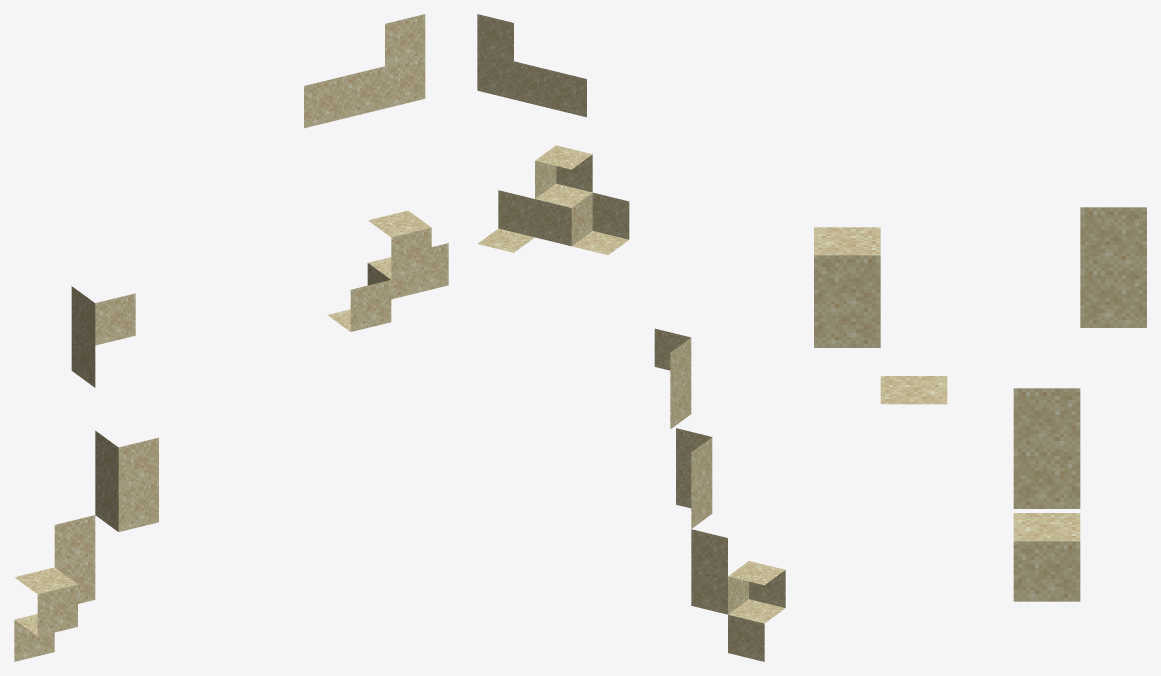
Rendered from Sandstone_Chunk_45_2.fbx.
3 renders of one model, left to right at view 1: azimuth 30°, elevation 25°; view 2: azimuth 150°, elevation 25°; view 3: azimuth 270°, elevation 25°, orthographic. The views are drawn at different scales.
Parts seen in each view (by area): view 1: Sandstone_Chunk_45_2; view 2: Sandstone_Chunk_45_2; view 3: Sandstone_Chunk_45_2.
Boxes of the visible parts, box(x1,y1,x2,y2) form: Sandstone_Chunk_45_2: box(14, 14, 448, 661); Sandstone_Chunk_45_2: box(477, 14, 785, 661); Sandstone_Chunk_45_2: box(814, 207, 1146, 601).
Size of the model in its own units: 900 by 1400 by 500.
1 material, 1 textured.
